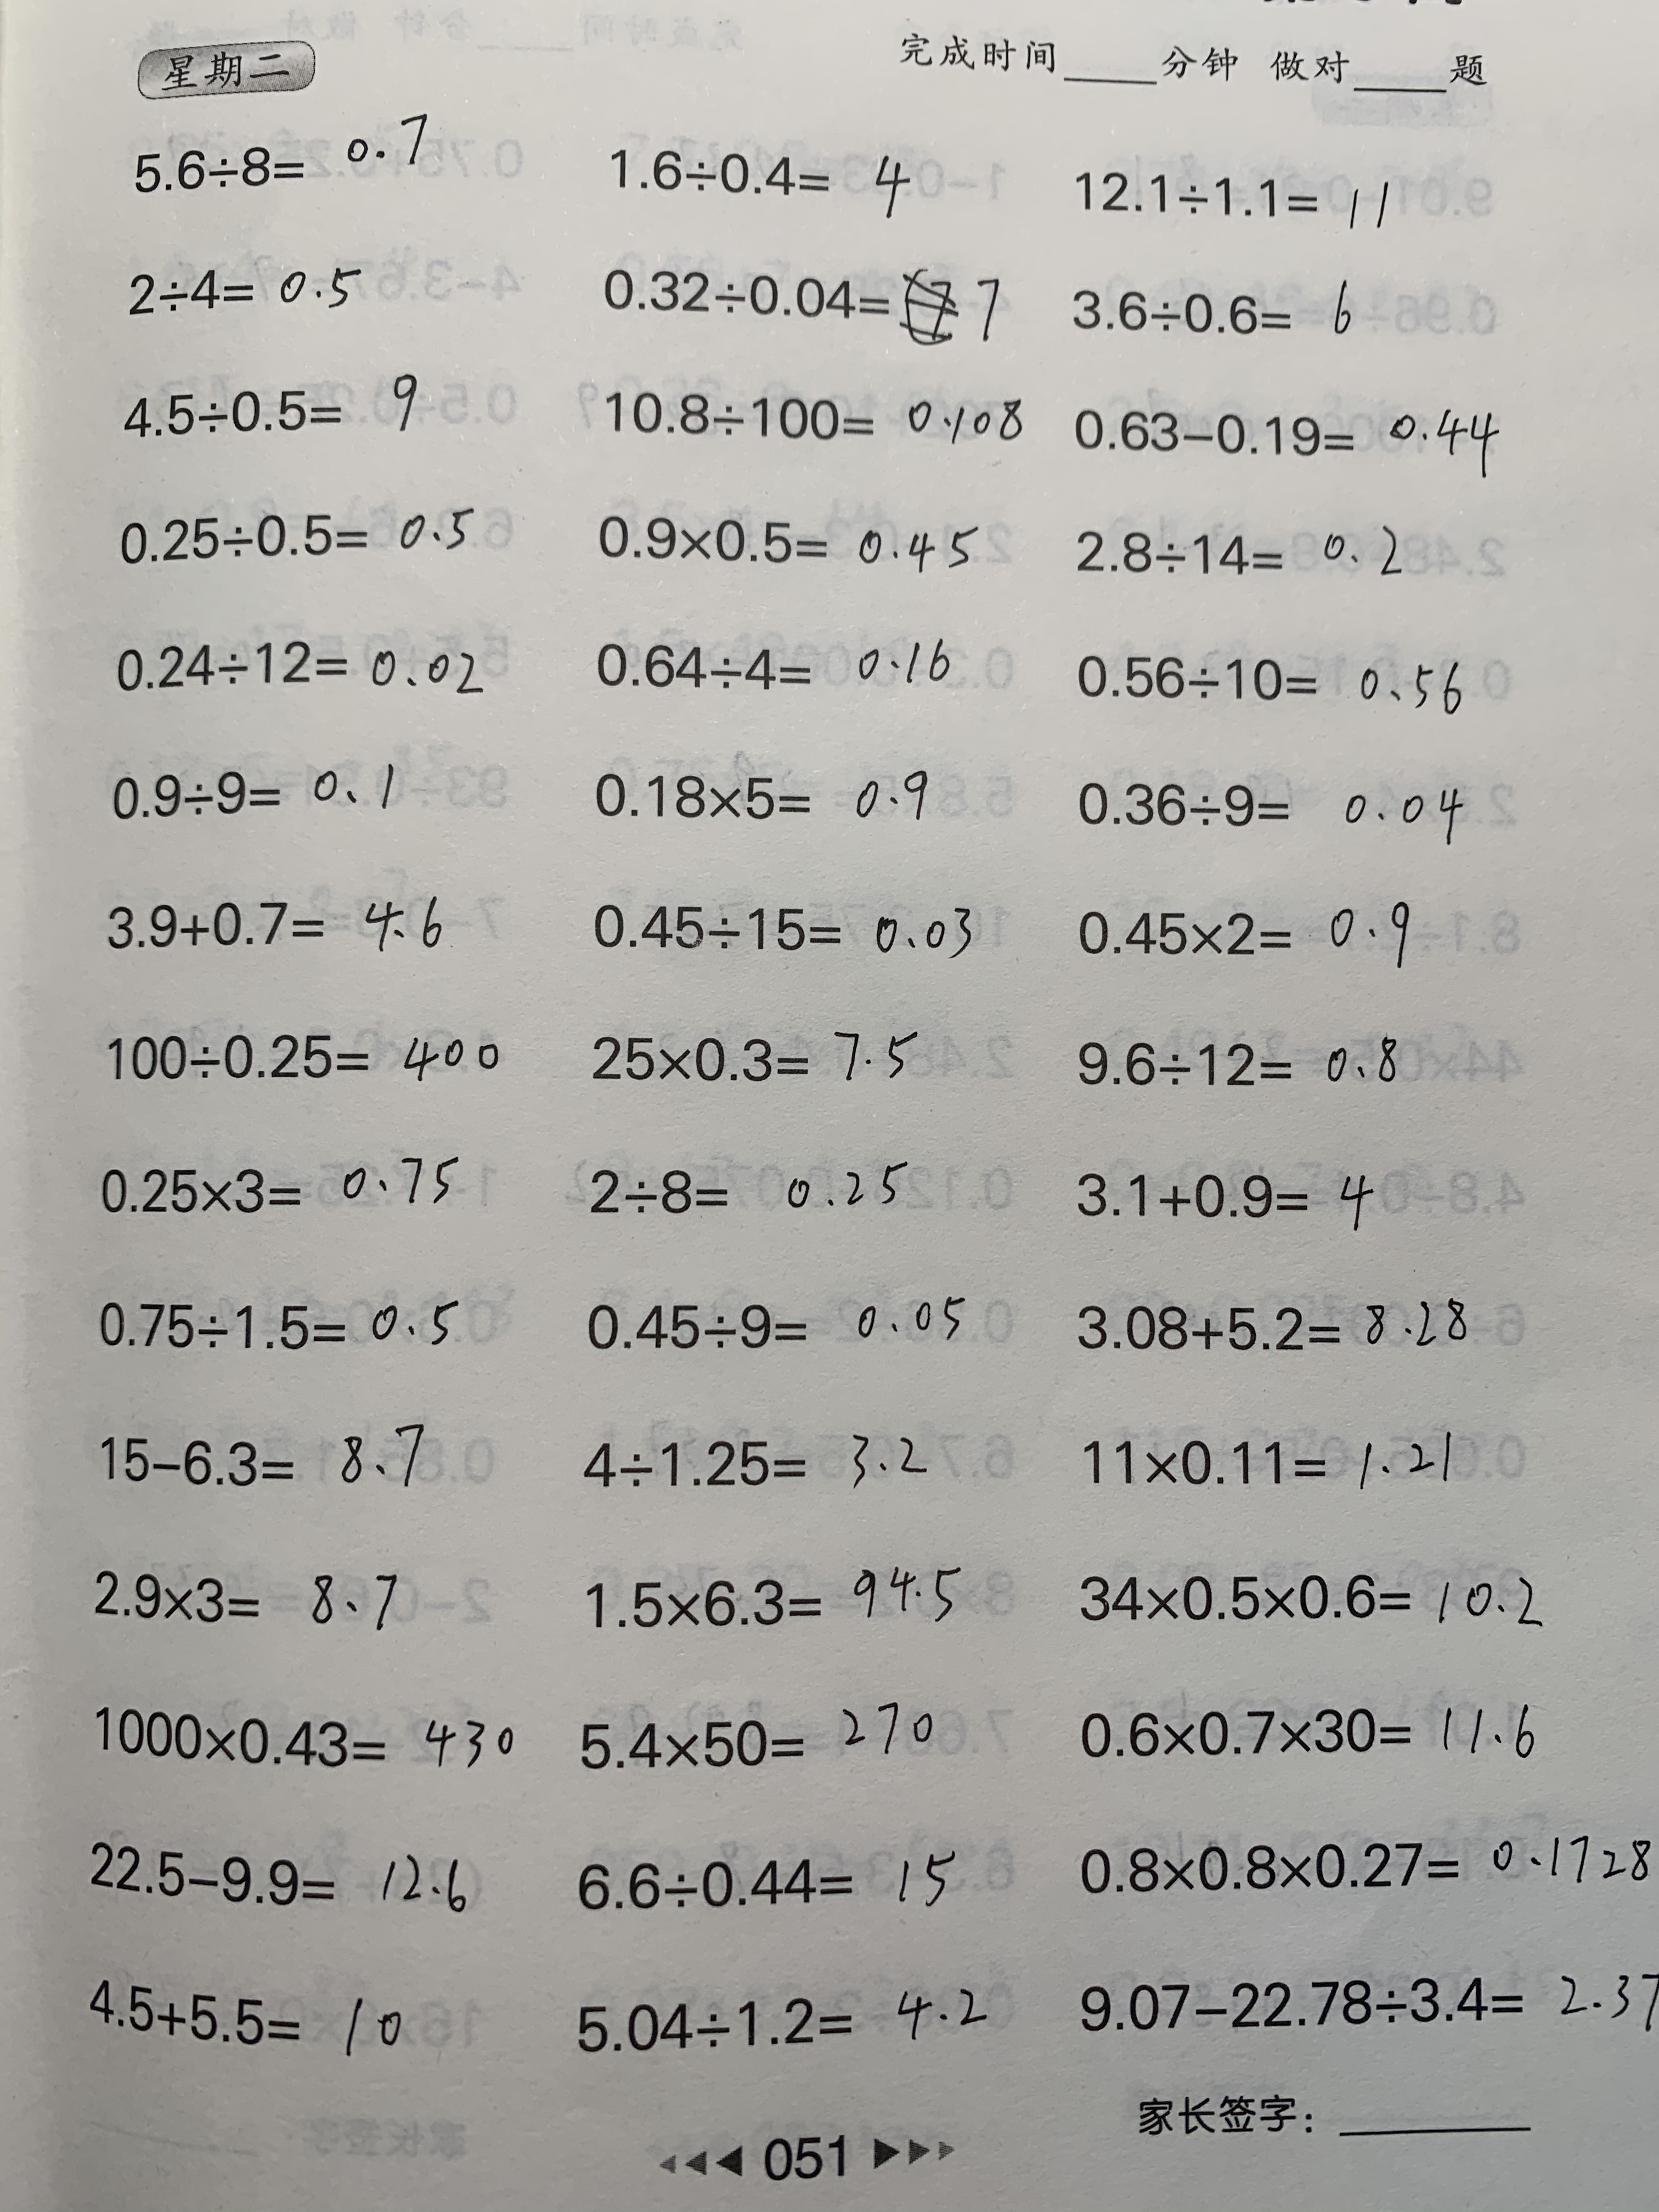equation: (1079, 1960, 1659, 2055), (1064, 1681, 1548, 1781), (586, 257, 1009, 368), (1064, 1830, 1656, 1899), (1067, 1261, 1476, 1361), (1062, 390, 1507, 481), (583, 119, 926, 229), (1070, 1562, 1548, 1640), (592, 495, 995, 586), (592, 619, 962, 708), (567, 1844, 965, 1925), (105, 111, 454, 202), (1073, 890, 1430, 979), (1064, 647, 1471, 724), (86, 1703, 523, 1775), (1067, 771, 1471, 849), (580, 893, 981, 970), (80, 1836, 478, 1914), (567, 1983, 995, 2055), (597, 385, 1026, 456), (1062, 1015, 1419, 1101), (575, 1557, 968, 1634), (1073, 1424, 1460, 1502), (105, 628, 492, 702), (97, 1023, 511, 1092), (88, 1413, 431, 1496), (569, 1701, 946, 1775), (575, 1289, 973, 1358), (88, 1150, 467, 1222), (1056, 160, 1407, 238), (575, 1424, 938, 1499), (97, 888, 451, 962), (91, 1291, 470, 1361), (83, 1560, 407, 1640), (77, 1980, 412, 2057), (108, 500, 481, 567), (1070, 514, 1413, 586), (1067, 1164, 1385, 1242), (583, 760, 935, 830), (114, 365, 426, 442), (586, 1023, 929, 1092), (580, 1153, 915, 1222), (1067, 274, 1366, 351), (99, 758, 404, 824), (119, 257, 370, 321)
